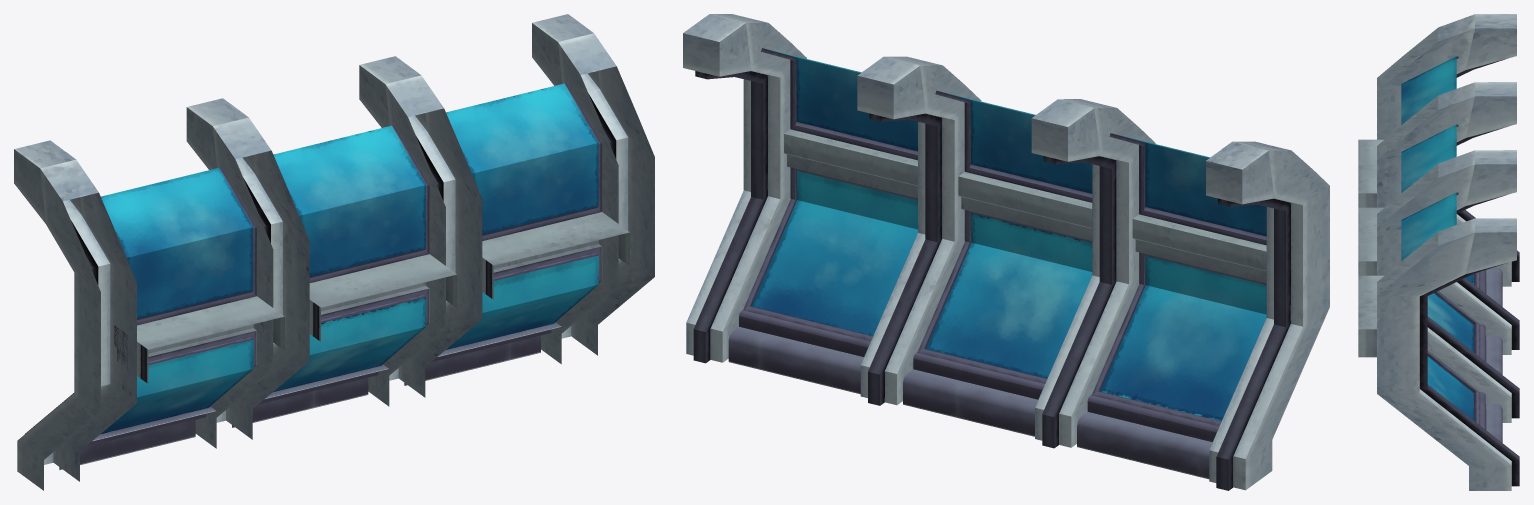
Rendered from straight_hallwaywall1.fbx.
3 renders of one model, left to right at view 1: azimuth 30°, elevation 25°; view 2: azimuth 150°, elevation 25°; view 3: azimuth 270°, elevation 25°, orthographic. The views are drawn at different scales.
Visible parts, largest first — view 1: StarightHWWallArch1, StarightHWWindow2, StarightHWWindow1, StarightHWWindowFrame, StarightHWWallArch2.001, StarightHWWallArch2, StarightHWWallArch2.002; view 2: StarightHWWallArch1, StarightHWWindow1, StarightHWWindow2, StarightHWWindowFrame, StarightHWWallArch2, StarightHWWallArch2.002, StarightHWWallArch2.001; view 3: StarightHWWallArch1, StarightHWWindow2, StarightHWWindowFrame, StarightHWWindow1, StarightHWWallArch2.002, StarightHWWallArch2.001, StarightHWWallArch2.
Boxes of the visible parts, x1,y1,x2,y2 form: StarightHWWallArch1: (14,14,654,490); StarightHWWindow2: (101,83,602,325); StarightHWWindow1: (100,246,602,434); StarightHWWindowFrame: (114,212,629,383); StarightHWWallArch2.001: (232,364,388,427); StarightHWWallArch2: (59,406,215,470); StarightHWWallArch2.002: (404,322,561,385); StarightHWWallArch1: (683,14,1329,490); StarightHWWindow1: (743,167,1266,426); StarightHWWindow2: (760,48,1266,245); StarightHWWindowFrame: (784,129,1266,283); StarightHWWallArch2: (1077,395,1219,479); StarightHWWallArch2.002: (728,310,870,394); StarightHWWallArch2.001: (903,353,1044,436); StarightHWWallArch1: (1377,14,1519,490); StarightHWWindow2: (1401,56,1458,261); StarightHWWindowFrame: (1358,139,1383,357); StarightHWWindow1: (1427,272,1480,425); StarightHWWallArch2.002: (1480,392,1502,442); StarightHWWallArch2.001: (1480,324,1502,374); StarightHWWallArch2: (1480,267,1502,306).
Bounding box in the file's own units: 8.43 × 2.63 × 4.7.
2 materials, 2 textured.
